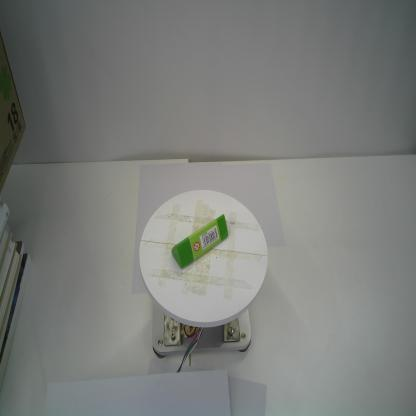Stationery: (170, 212, 230, 271)
